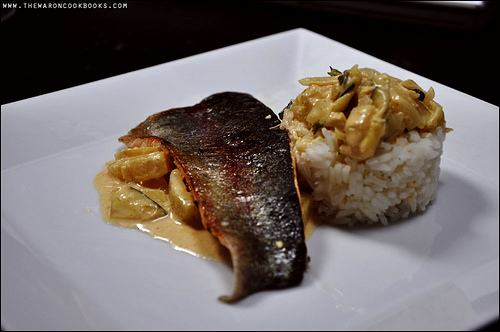fish: (119, 91, 311, 305)
